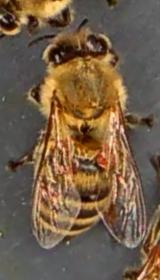varroa_mite: (94, 146, 112, 172)
